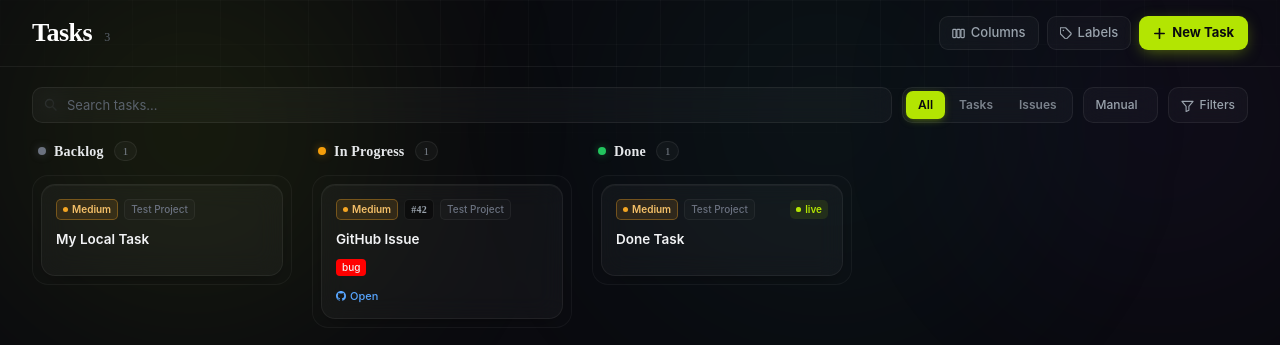
Test case: KanbanBoard › filters to GitHub issues only when the Issues segment is selected
Expected: the heading "Backlog" is shown, [54, 140, 104, 162]
Click the tab "Issues": (1038, 105) [1007, 91, 1068, 119]
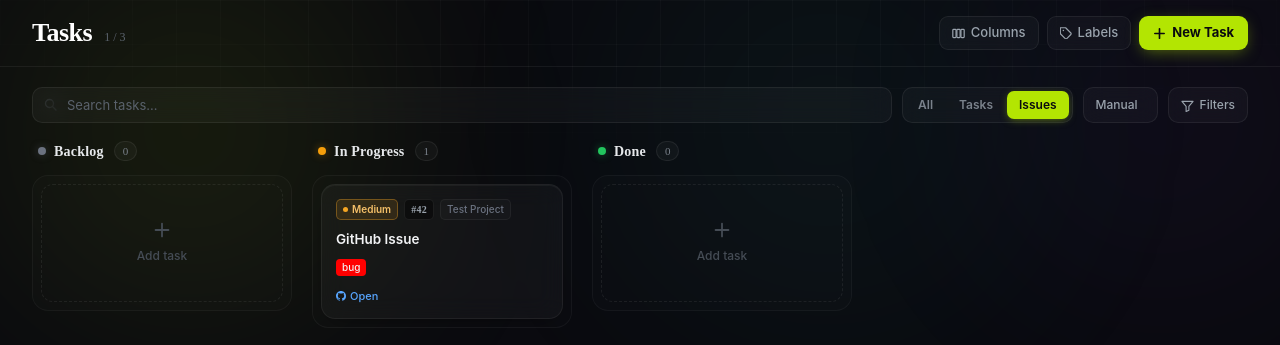
Expected: the heading "GitHub Issue" is shown, [336, 231, 419, 247]
Expected: the heading "My Local Task" is gone
